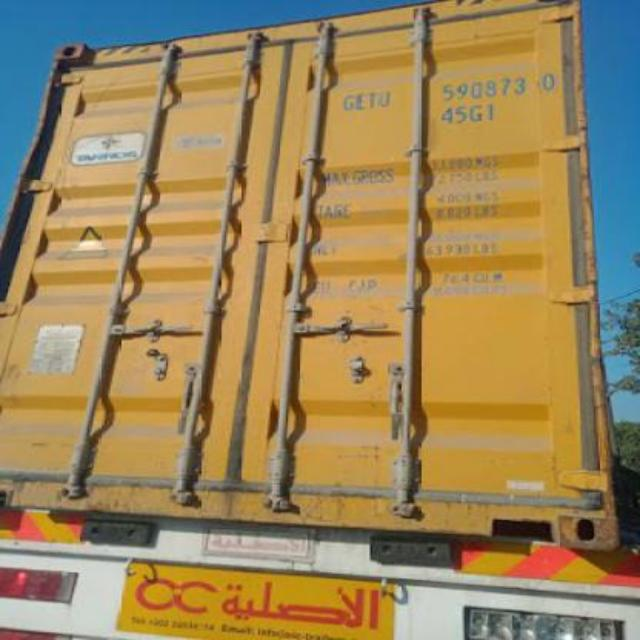0: (538, 70, 558, 90), (468, 74, 482, 102)
3: (512, 70, 530, 100)
5: (441, 74, 454, 104)
7: (496, 70, 512, 100)
8: (482, 74, 496, 98)
9: (454, 74, 468, 100)
E: (352, 86, 368, 112)
G: (338, 87, 354, 113)
T: (364, 86, 378, 112)
U: (378, 86, 392, 110)
